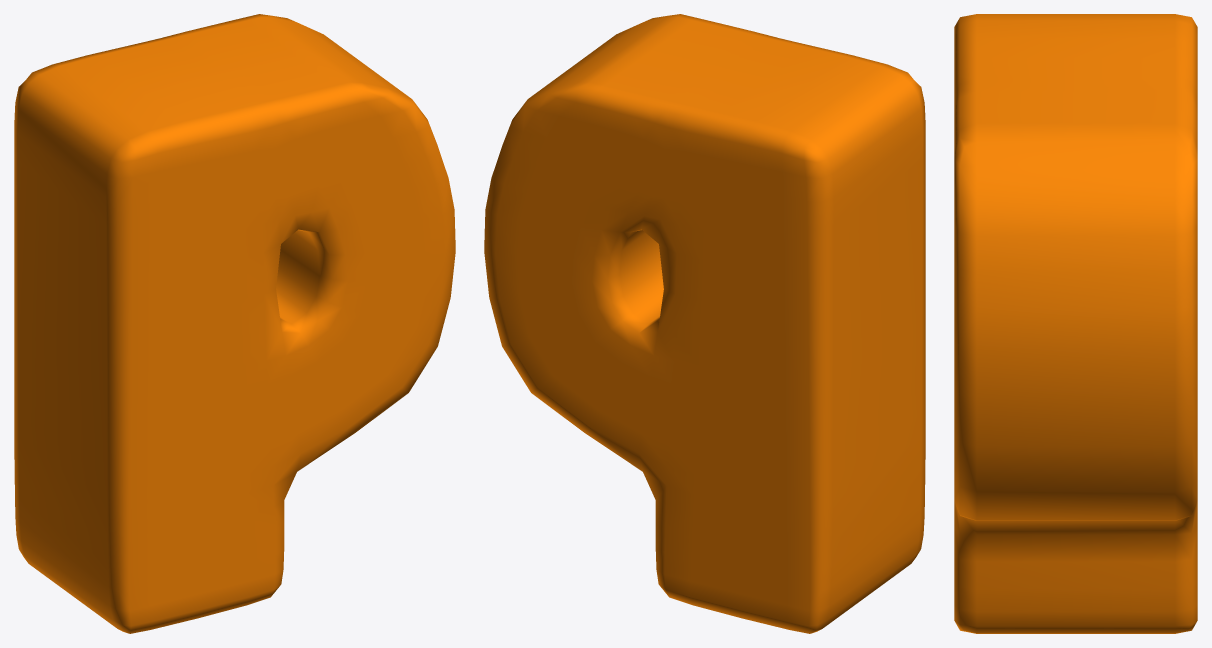
The picture shows the model from 3 angles, left to right: view 1: azimuth 30°, elevation 25°; view 2: azimuth 150°, elevation 25°; view 3: azimuth 270°, elevation 25°; orthographic projection. The views are drawn at different scales.
Visible parts, largest first — view 1: LETTER_P; view 2: LETTER_P; view 3: LETTER_P.
Part boxes in pixels (x1,y1,x2,y2): LETTER_P: (14, 14, 455, 633); LETTER_P: (484, 14, 925, 633); LETTER_P: (954, 14, 1197, 633).
Bounding box in the file's own units: 0.731 × 1 × 0.3963.
